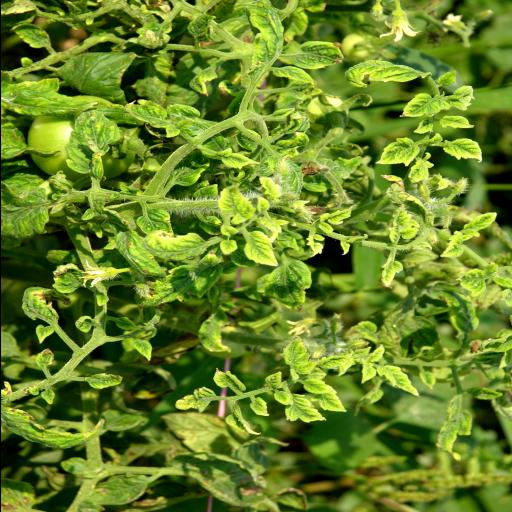disease_tomato: (136, 252, 222, 310), (0, 404, 106, 450), (62, 108, 122, 186), (0, 75, 87, 117), (256, 254, 314, 314), (108, 231, 171, 283), (244, 0, 284, 71), (124, 100, 193, 138), (436, 394, 472, 462), (344, 58, 424, 88), (141, 228, 207, 262), (364, 136, 423, 172), (210, 179, 254, 227), (21, 286, 71, 324), (281, 40, 343, 70), (237, 228, 279, 271), (280, 386, 322, 426), (197, 306, 231, 353), (377, 363, 421, 398), (168, 384, 217, 415), (398, 92, 450, 118), (390, 205, 420, 250), (281, 336, 315, 374), (438, 136, 484, 164), (318, 204, 356, 234), (135, 206, 173, 236), (452, 267, 488, 297), (10, 23, 50, 49), (376, 258, 406, 292), (224, 408, 260, 436), (460, 212, 498, 238), (216, 150, 260, 170), (315, 384, 345, 412), (408, 154, 436, 184), (432, 236, 466, 260), (212, 367, 246, 391), (271, 66, 315, 84), (448, 86, 476, 112), (314, 353, 352, 371), (86, 374, 123, 390), (257, 177, 283, 199), (438, 114, 476, 129), (464, 387, 502, 400), (130, 340, 152, 362), (34, 346, 55, 368), (364, 344, 388, 363), (110, 317, 140, 331), (357, 362, 376, 384), (248, 398, 268, 418), (412, 117, 434, 135), (32, 326, 54, 344), (436, 70, 458, 86), (418, 372, 436, 390), (217, 239, 237, 255), (272, 107, 296, 119)
